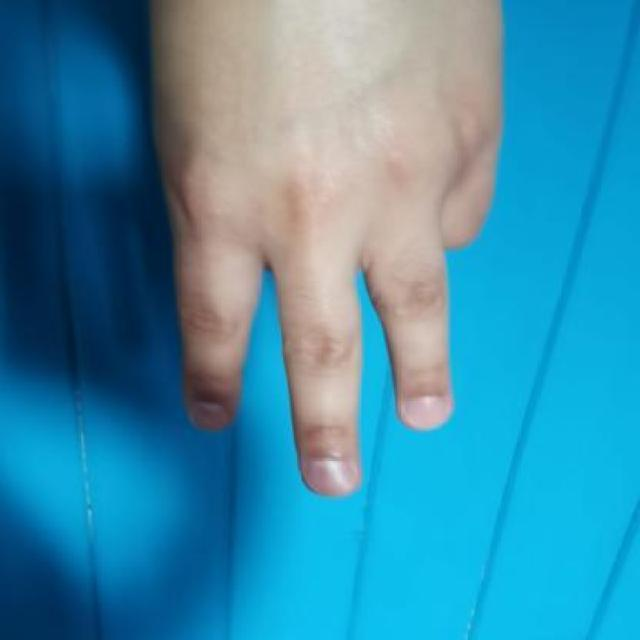M: (105, 0, 540, 506)
